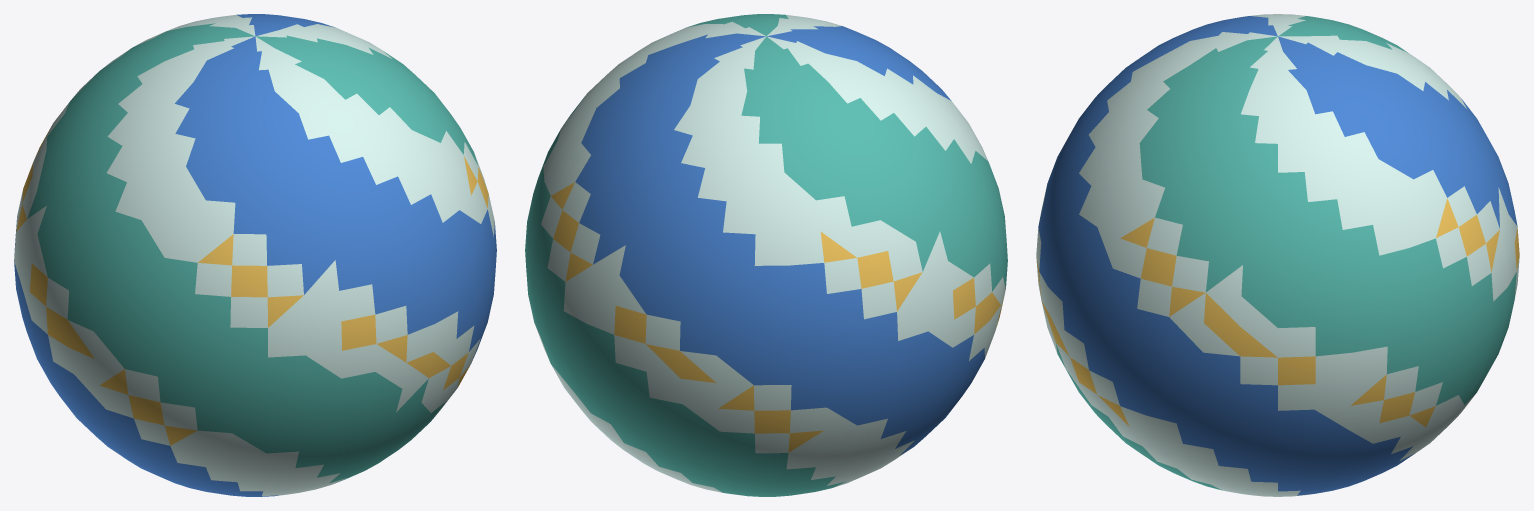
Rendered from marble.glb.
The picture shows the model from 3 angles, left to right: view 1: azimuth 30°, elevation 25°; view 2: azimuth 150°, elevation 25°; view 3: azimuth 270°, elevation 25°; orthographic projection.
Parts seen in each view (by area): view 1: marble; view 2: marble; view 3: marble.
Boxes of the visible parts, x1,y1,x2,y2 form: marble: (14,14,496,496); marble: (525,14,1007,496); marble: (1036,14,1519,496).
Size of the model in its own units: 1 by 1 by 1.
1 material, 1 textured.
